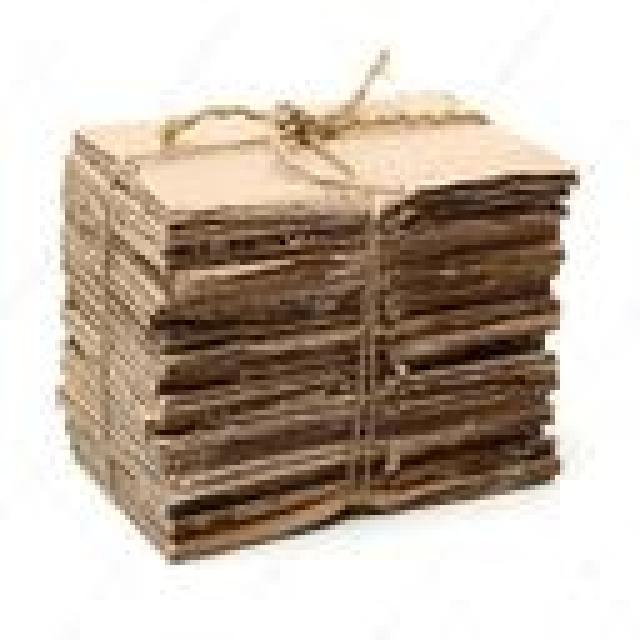Cardboard: (59, 71, 583, 562)
